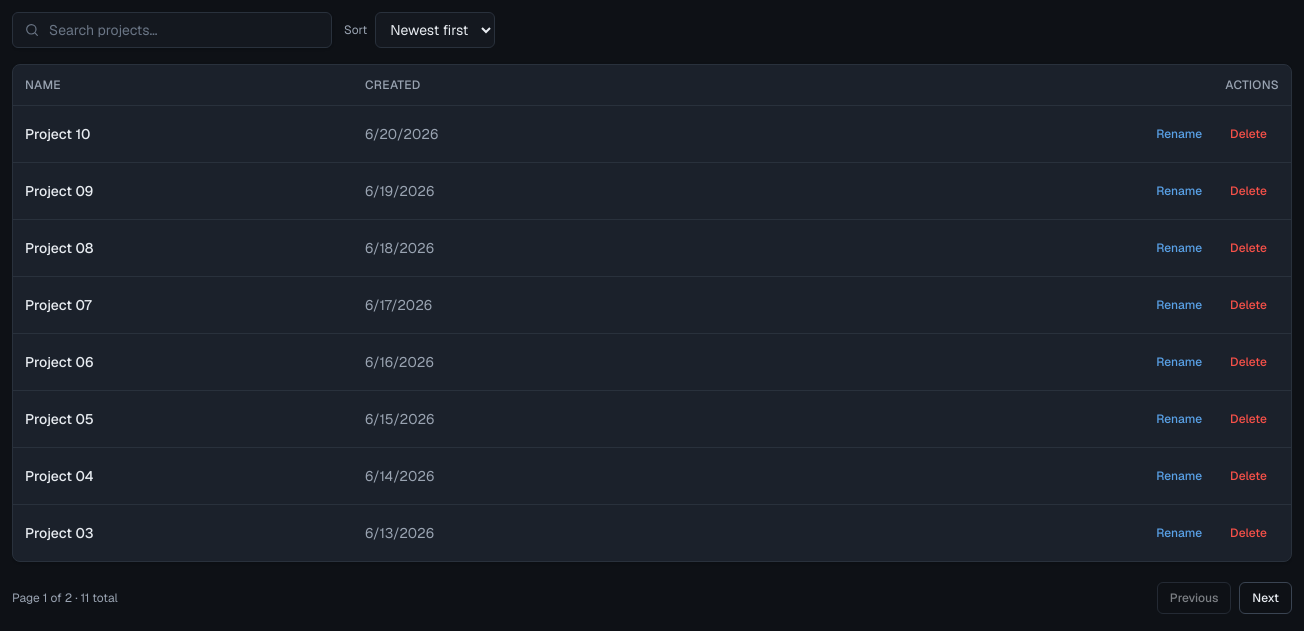
it: ProjectsManager › shows a no-match state for a search with no results
Type "zzzzz" into the search field at (172,30), box [12,12,332,48]
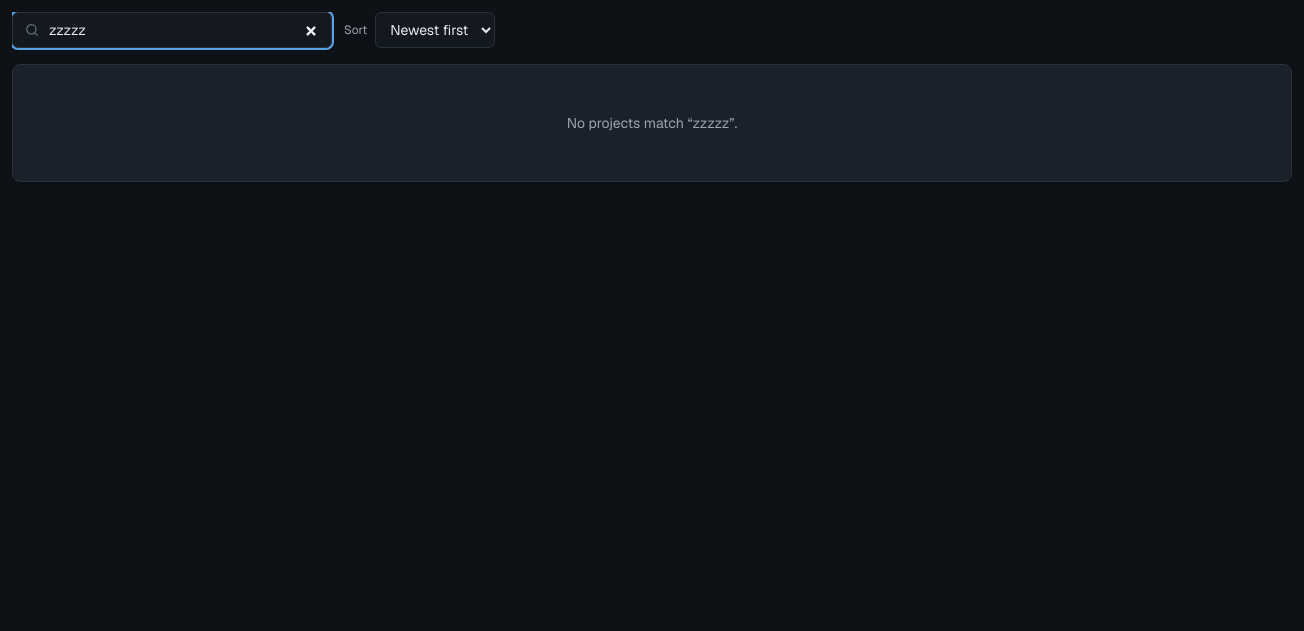
Result: the text "No projects match “zzzzz”." is shown at [567,114,737,132]
